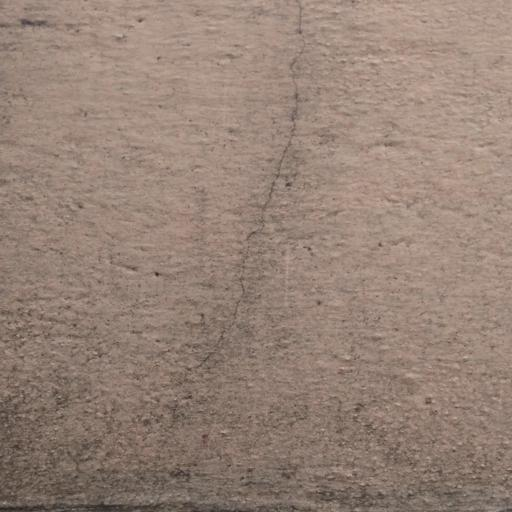minor_crack: (174, 0, 336, 378)
